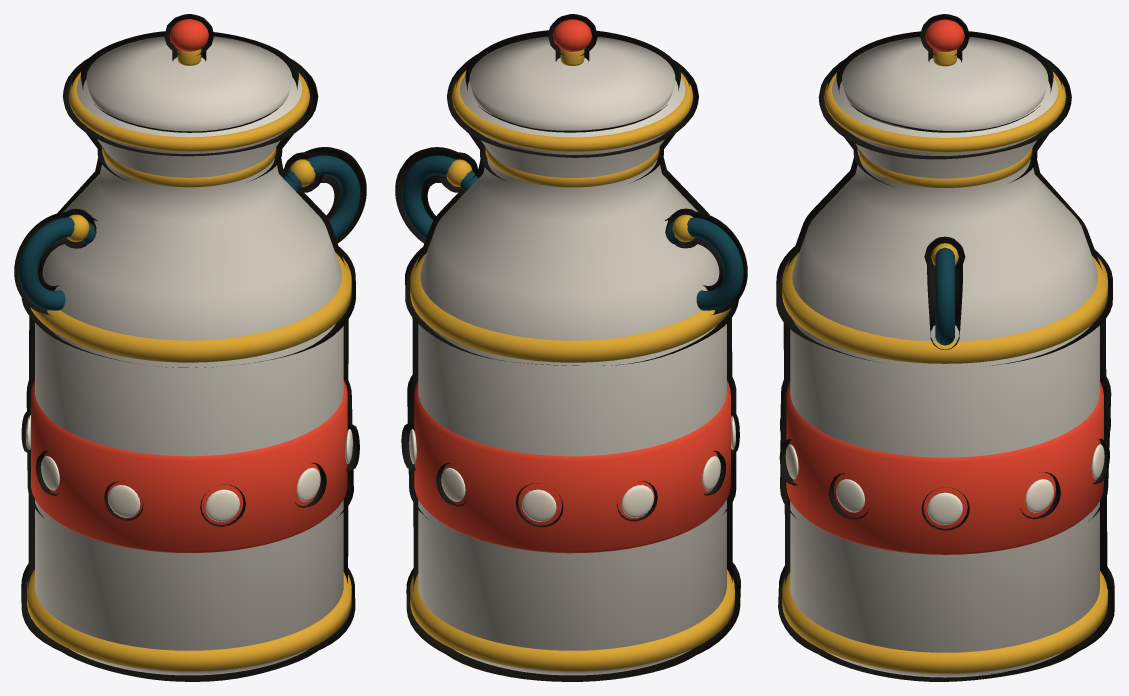
Rendered from milkchurn.glb.
3 views of the same model, side by side, from view 1: azimuth 30°, elevation 25°; view 2: azimuth 150°, elevation 25°; view 3: azimuth 270°, elevation 25° (orthographic).
Visible parts, largest first — view 1: MilkChurn, MilkChurn_outline; view 2: MilkChurn, MilkChurn_outline; view 3: MilkChurn, MilkChurn_outline.
Boxes of the visible parts, x1,y1,x2,y2 form: MilkChurn: (18, 19, 360, 675); MilkChurn_outline: (14, 14, 366, 681); MilkChurn: (401, 19, 743, 675); MilkChurn_outline: (395, 14, 747, 681); MilkChurn: (782, 19, 1107, 677); MilkChurn_outline: (776, 14, 1114, 681).
Size of the model in its own units: 2.03 by 3.36 by 1.71.
